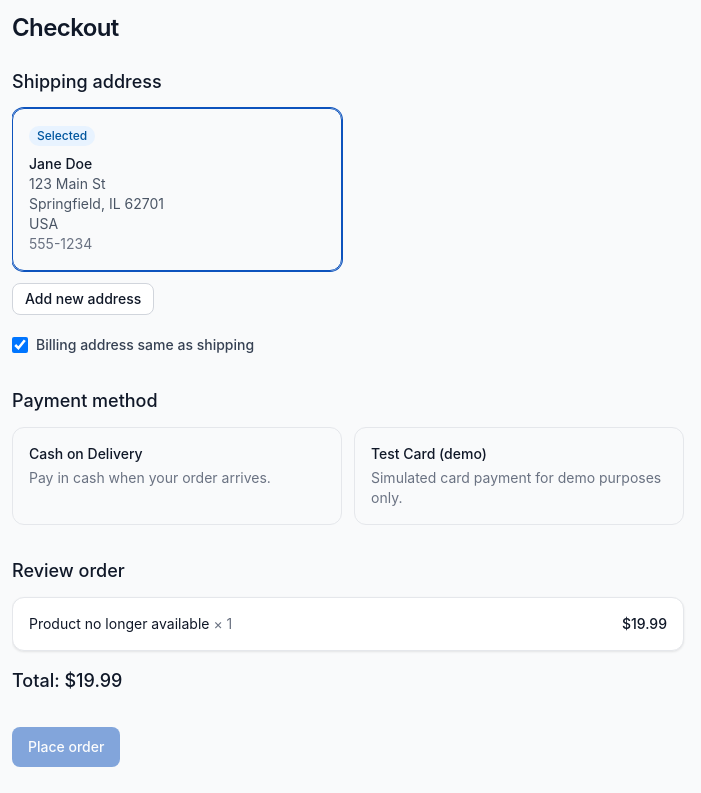
Test: Checkout › disables the place-order button until a shipping address and payment method are selected
expect the text "Jane Doe" is shown: met, box left=29, top=155, right=92, bottom=172
expect the button "Place order" is disabled: met, box left=12, top=727, right=120, bottom=767
Click the text "Cash on Delivery" at (86, 454), box left=29, top=444, right=143, bottom=464
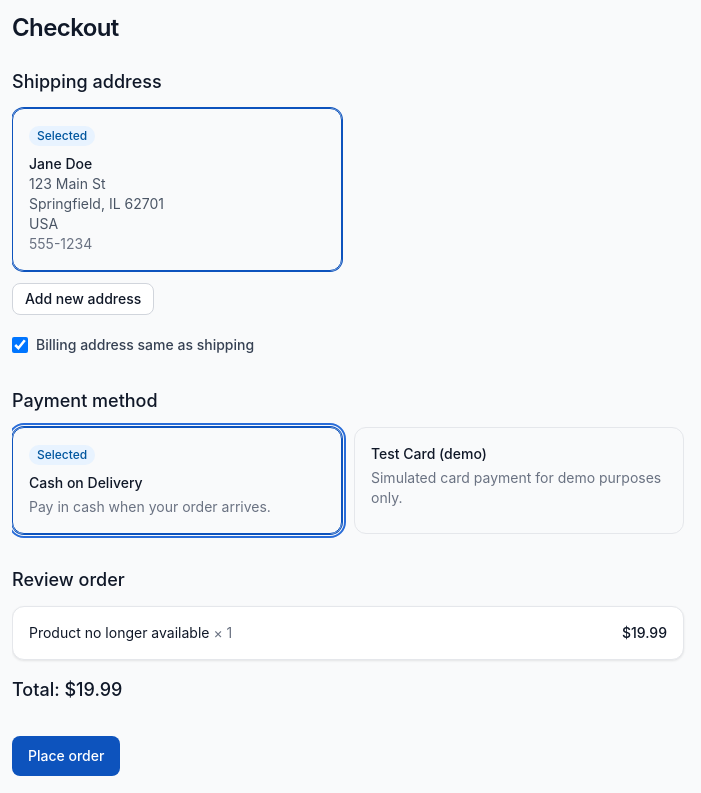
expect the button "Place order" is enabled: met, box left=12, top=736, right=120, bottom=776
